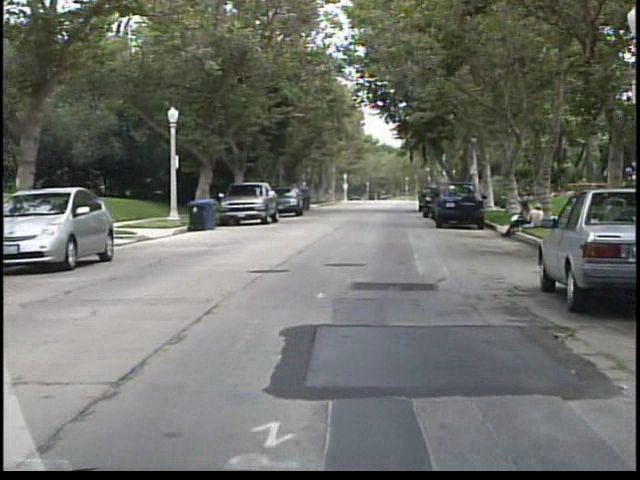person: (501, 197, 535, 240), (521, 202, 547, 236)
